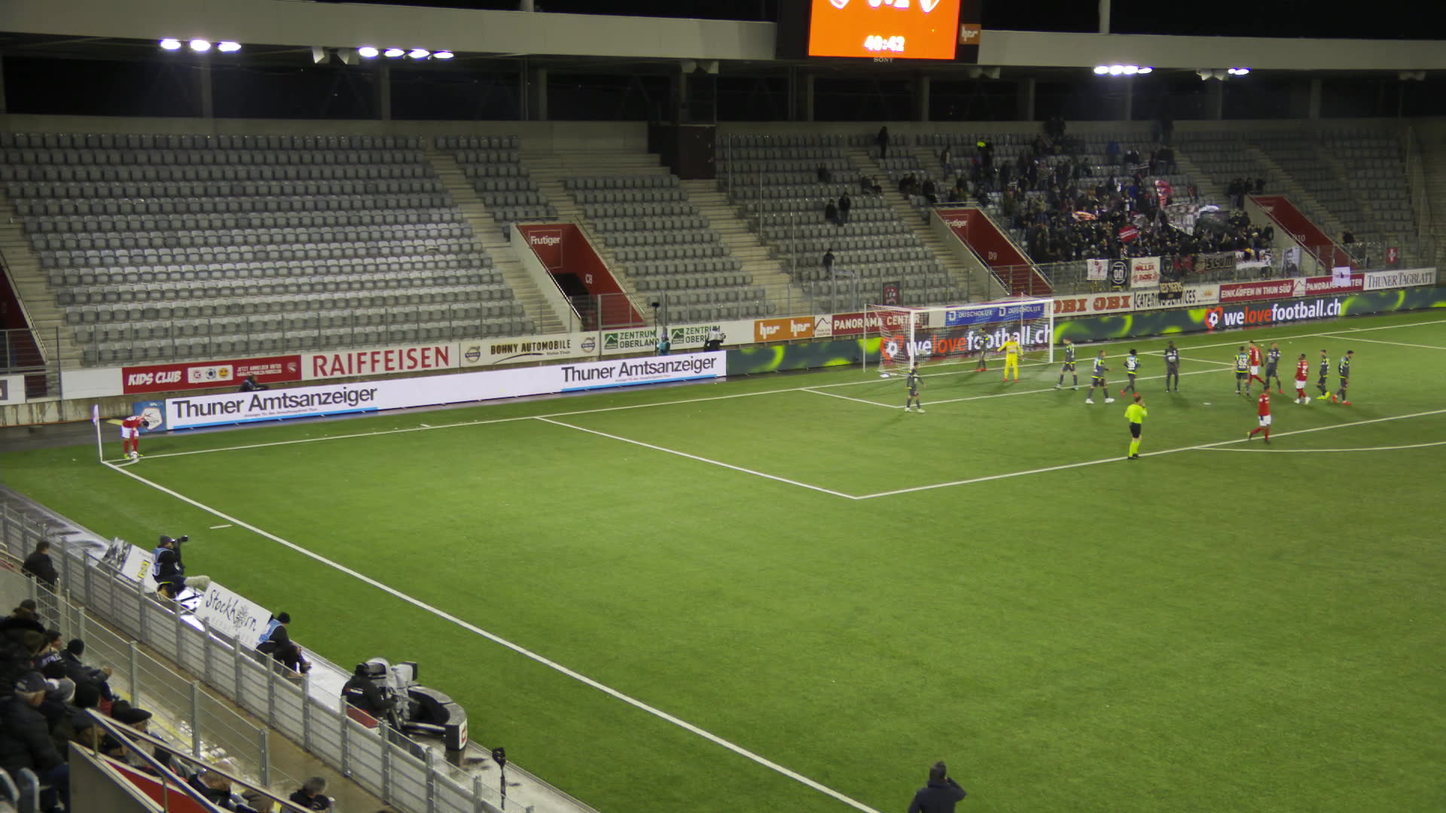ball: (128, 449, 138, 459)
player: (1244, 383, 1274, 446), (991, 333, 1027, 383), (1084, 349, 1115, 404), (1051, 335, 1079, 391), (1240, 338, 1270, 390), (119, 413, 150, 461), (901, 360, 927, 413), (1259, 341, 1284, 395), (1332, 349, 1355, 405), (1118, 347, 1141, 398), (1289, 352, 1310, 406), (1161, 339, 1181, 395), (1231, 343, 1251, 397), (970, 325, 991, 372), (1314, 348, 1331, 400)
referee: (1123, 394, 1148, 461)
